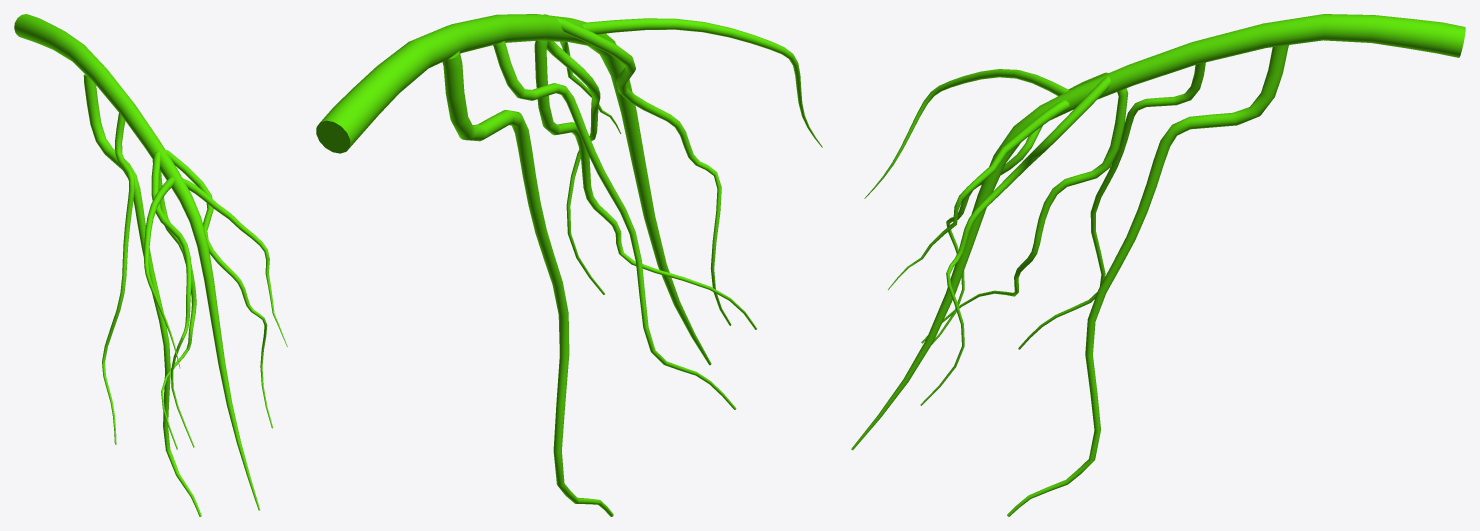
The model's file is rama 1.fbx.
3 renders of one model, left to right at view 1: azimuth 30°, elevation 25°; view 2: azimuth 150°, elevation 25°; view 3: azimuth 270°, elevation 25°, orthographic. The views are drawn at different scales.
Parts seen in each view (by area): view 1: polySurface16, polySurface17, polySurface15, polySurface18, polySurface19, polySurface20, polySurface14; view 2: polySurface16, polySurface17, polySurface15, polySurface18, polySurface14, polySurface19; view 3: polySurface16, polySurface17, polySurface15, polySurface18, polySurface14, polySurface19, polySurface20.
Part boxes in pixels (left/top/right/bottom): polySurface16: left=14, top=14, right=260, bottom=510; polySurface17: left=83, top=74, right=201, bottom=516; polySurface15: left=151, top=149, right=272, bottom=447; polySurface18: left=102, top=113, right=134, bottom=444; polySurface19: left=144, top=177, right=180, bottom=368; polySurface20: left=182, top=178, right=287, bottom=346; polySurface14: left=152, top=160, right=196, bottom=449; polySurface16: left=316, top=14, right=711, bottom=365; polySurface17: left=442, top=51, right=613, bottom=516; polySurface15: left=544, top=14, right=731, bottom=325; polySurface18: left=493, top=41, right=736, bottom=409; polySurface14: left=534, top=40, right=756, bottom=329; polySurface19: left=582, top=18, right=822, bottom=147; polySurface16: left=851, top=14, right=1465, bottom=450; polySurface17: left=1007, top=45, right=1288, bottom=516; polySurface15: left=920, top=72, right=1110, bottom=405; polySurface18: left=1018, top=62, right=1205, bottom=349; polySurface14: left=921, top=88, right=1128, bottom=343; polySurface19: left=864, top=69, right=1069, bottom=198; polySurface20: left=888, top=100, right=1069, bottom=289.
Bounding box in the file's own units: 5.97 × 16.47 × 18.32.
